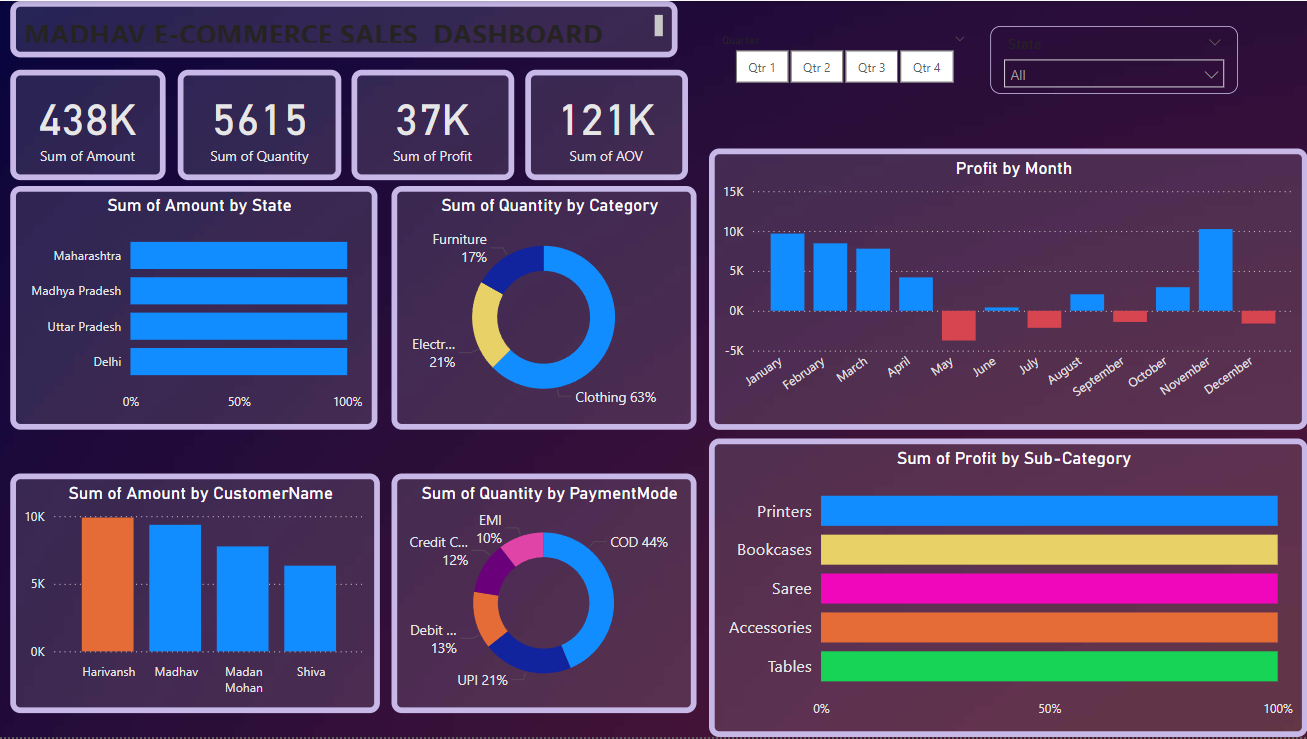

The page's visual inventory and layout, read from the dashboard file:
{"tool":"powerbi","page":{"name":"Page 1","canvas":[1280,720],"ordinal":0},"visuals":[{"type":"textbox","box":[10.8,0,653,55.5],"z":0},{"type":"columnChart","title":" Profit by Month","fields":{"Category":["Orders.Order Date.Variation.Date Hierarchy.Month"],"Y":["Sum(Details.Profit)"]},"box":[694.6,144.3,585.7,275.1],"z":1000},{"type":"hundredPercentStackedBarChart","fields":{"Category":["Details.Sub-Category"],"Y":["Sum(Details.Profit)"]},"box":[694.6,428,585.7,292.3],"z":2000},{"type":"donutChart","fields":{"Category":["Details.Category"],"Y":["Sum(Details.Quantity)"]},"box":[384,181,298.4,238.5],"z":3000},{"type":"donutChart","fields":{"Y":["Sum(Details.Quantity)"],"Category":["Details.PaymentMode"]},"box":[384,462.2,298.4,234.8],"z":4000},{"type":"card","fields":{"Values":["Sum(Details.Amount)"]},"box":[11,67.3,151.6,107.6],"z":5000},{"type":"card","fields":{"Values":["Sum(Details.Quantity)"]},"box":[174.9,67.3,160.2,107.6],"z":6000},{"type":"card","fields":{"Values":["Sum(Details.Profit)"]},"box":[344.8,67.3,159,107.6],"z":7000},{"type":"card","fields":{"Values":["Sum(Details.AOV)"]},"box":[514.8,67.3,159,107.6],"z":8000},{"type":"hundredPercentStackedBarChart","fields":{"Category":["Orders.State","Details.Sub-Category"],"Y":["Sum(Details.Amount)"]},"box":[10.8,181.5,359,238.4],"z":9000},{"type":"columnChart","fields":{"Category":["Orders.CustomerName"],"Y":["Sum(Details.Amount)"]},"box":[10.8,462,361.7,234.4],"z":10000},{"type":"slicer","fields":{"Values":["Orders.Order Date.Variation.Date Hierarchy.Quarter"]},"box":[695,27.1,262.8,59.6],"z":11000},{"type":"slicer","fields":{"Values":["Orders.State"]},"box":[970,24.4,242.5,66.4],"z":12000}]}

Visuals, with their boxes in screenshot pixels (x1, y1, x2, y2), scaled from the page's 1280x720 canvas onto the 1307x739 screenshot:
textbox: crop(11, 0, 678, 57)
" Profit by Month" columnChart: crop(709, 148, 1306, 430)
hundredPercentStackedBarChart - Details.Sub-Category x Sum(Details.Profit): crop(709, 439, 1306, 738)
donutChart - Details.Category x Sum(Details.Quantity): crop(392, 186, 697, 431)
donutChart - Sum(Details.Quantity) x Details.PaymentMode: crop(392, 474, 697, 715)
card - Sum(Details.Amount): crop(11, 69, 166, 180)
card - Sum(Details.Quantity): crop(179, 69, 342, 180)
card - Sum(Details.Profit): crop(352, 69, 514, 180)
card - Sum(Details.AOV): crop(526, 69, 688, 180)
hundredPercentStackedBarChart - Orders.State x Details.Sub-Category: crop(11, 186, 378, 431)
columnChart - Orders.CustomerName x Sum(Details.Amount): crop(11, 474, 380, 715)
slicer - Orders.Order Date.Variation.Date Hierarchy.Quarter: crop(710, 28, 978, 89)
slicer - Orders.State: crop(990, 25, 1238, 93)
